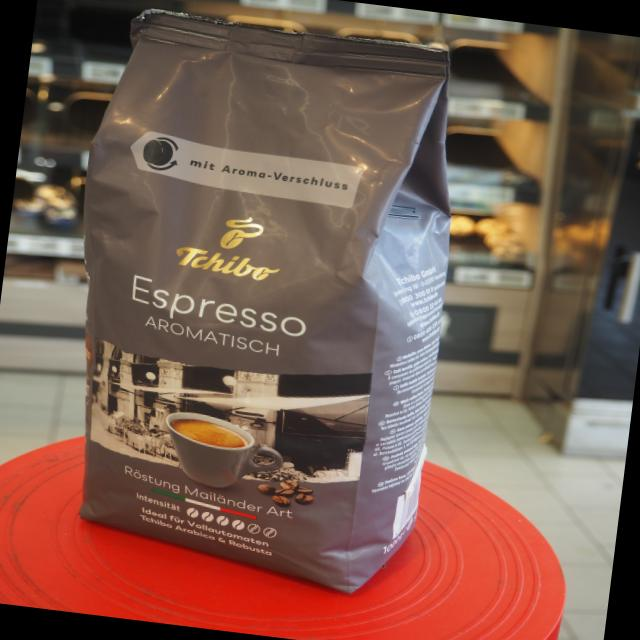Espresso Aromatisch: (27, 0, 483, 609)
